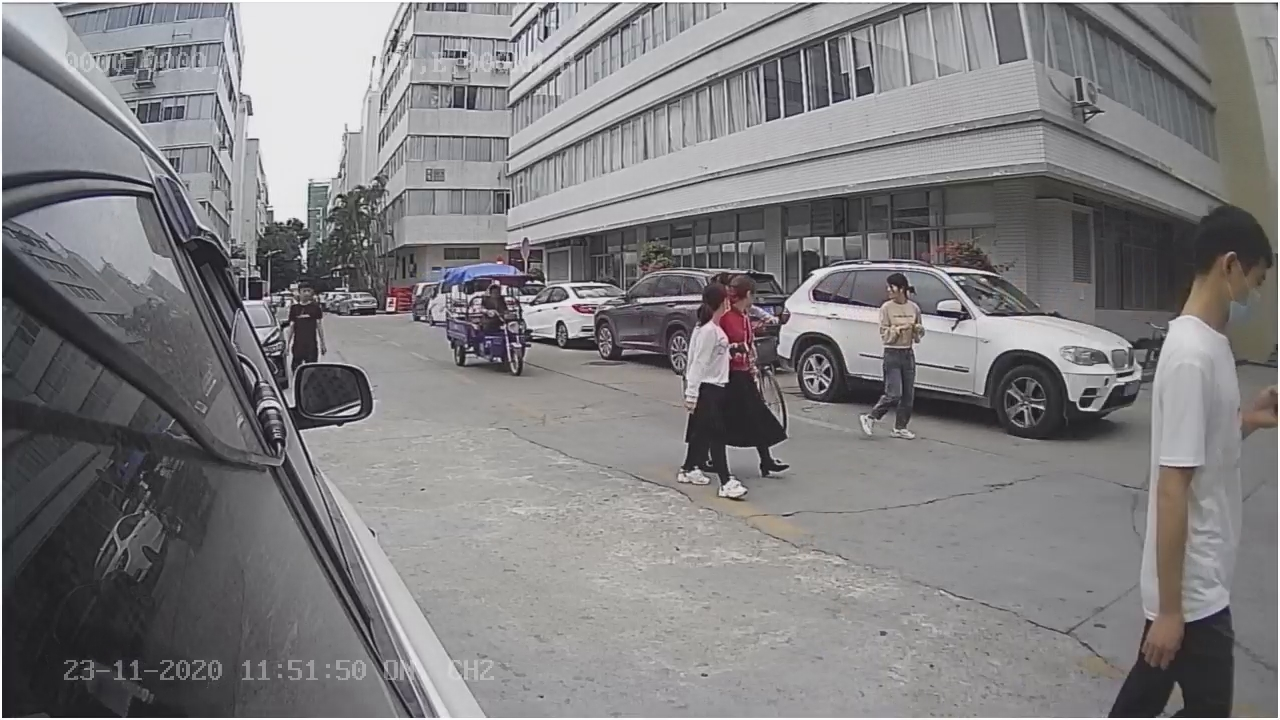person: (661, 275, 758, 501), (863, 273, 922, 443)
